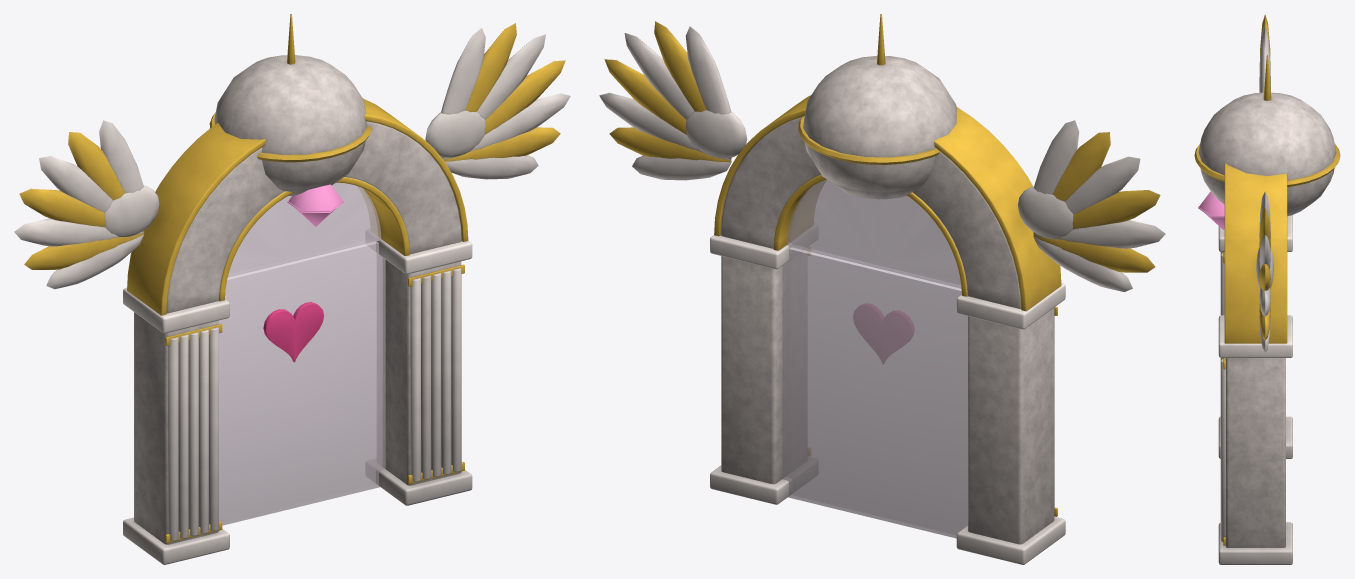
File: hs_heaven_gate.fbx
The picture shows the model from 3 angles, left to right: view 1: azimuth 30°, elevation 25°; view 2: azimuth 150°, elevation 25°; view 3: azimuth 270°, elevation 25°; orthographic projection. The views are drawn at different scales.
Parts seen in each view (by area): view 1: hs_heaven_gate; view 2: hs_heaven_gate; view 3: hs_heaven_gate.
Part boxes in pixels (x1,y1,x2,y2): hs_heaven_gate: (14, 14, 570, 564); hs_heaven_gate: (599, 14, 1165, 564); hs_heaven_gate: (1194, 14, 1340, 564).
Size of the model in its own units: 24.81 by 21.05 by 6.3.
6 materials, 6 textured.
